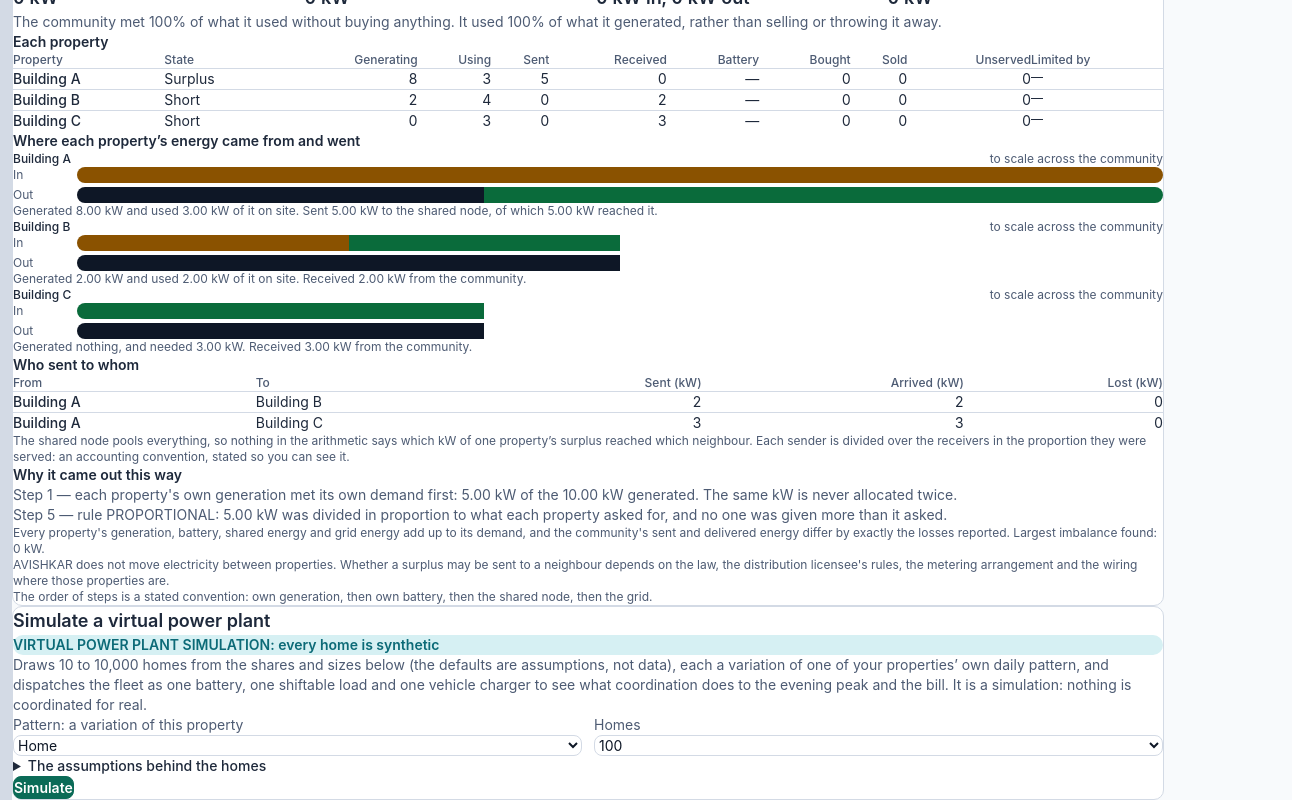
Scenario: CommunityView: the virtual power plant › sends the assumptions that were changed, as numbers, and the fleet size chosen
This screenshot has width=1292, height=800.
(page scrolled)
Select "10,000" in the dropdown labelled "Homes": coordinates (878, 745) left=594, top=735, right=1163, bottom=756
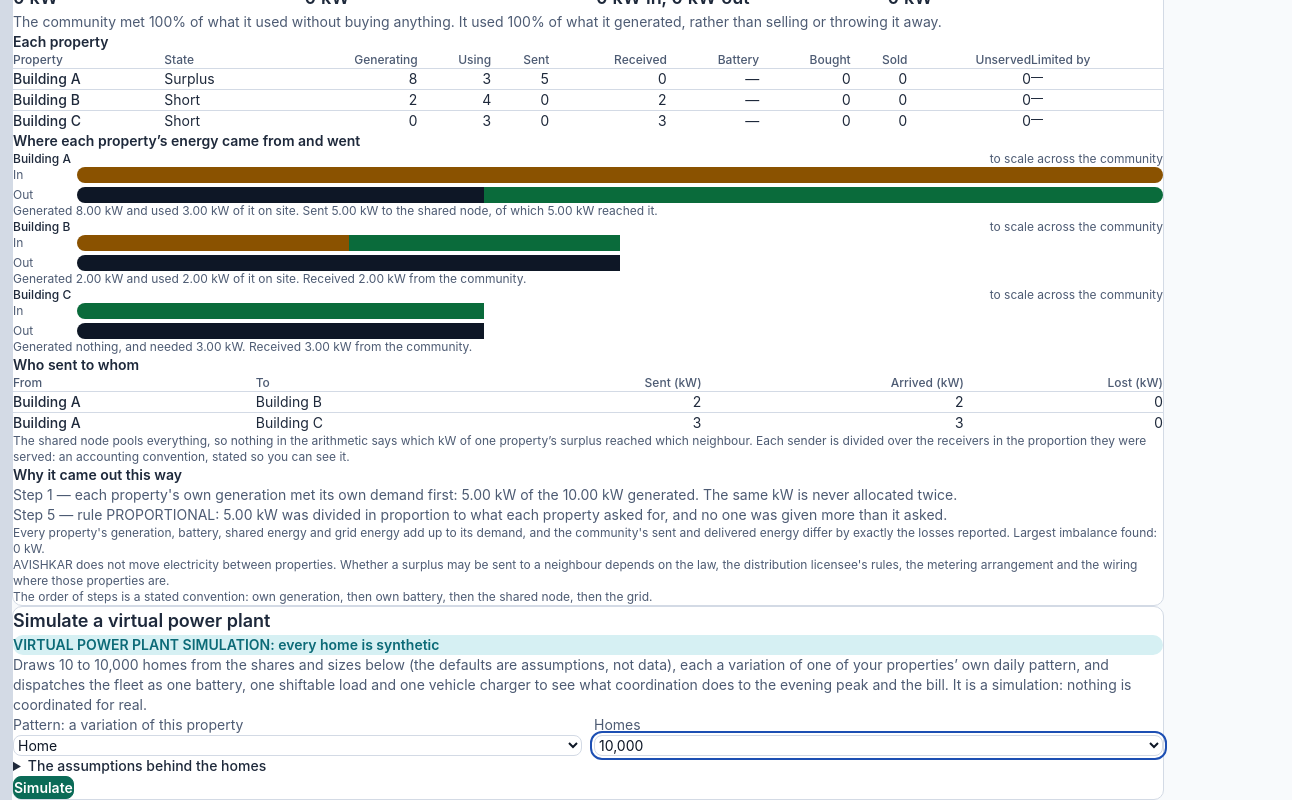
Click the heading "The assumptions behind the homes": coordinates (147, 765) left=28, top=757, right=266, bottom=774
(page scrolled)
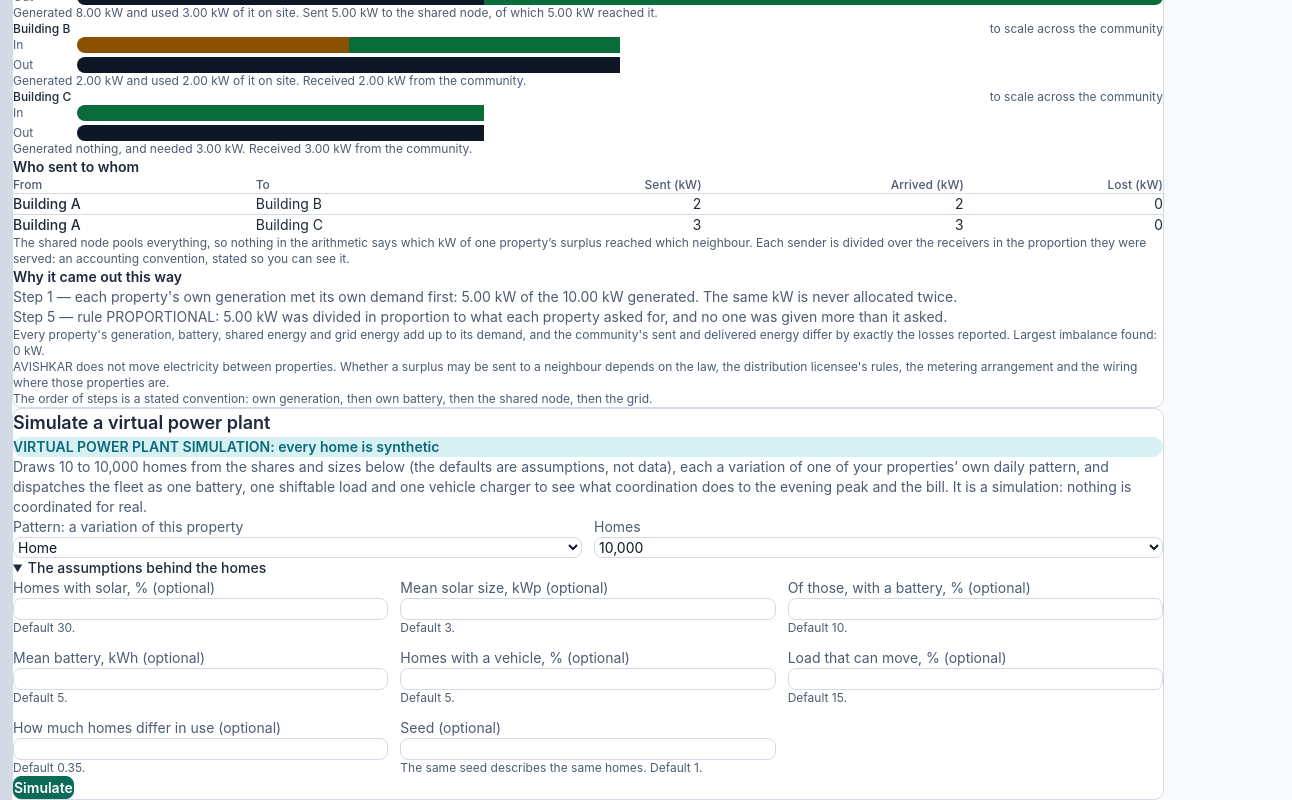
In the field labelled "Homes with solar, % (optional)": coordinates (201, 609) left=13, top=598, right=388, bottom=620, type "60"
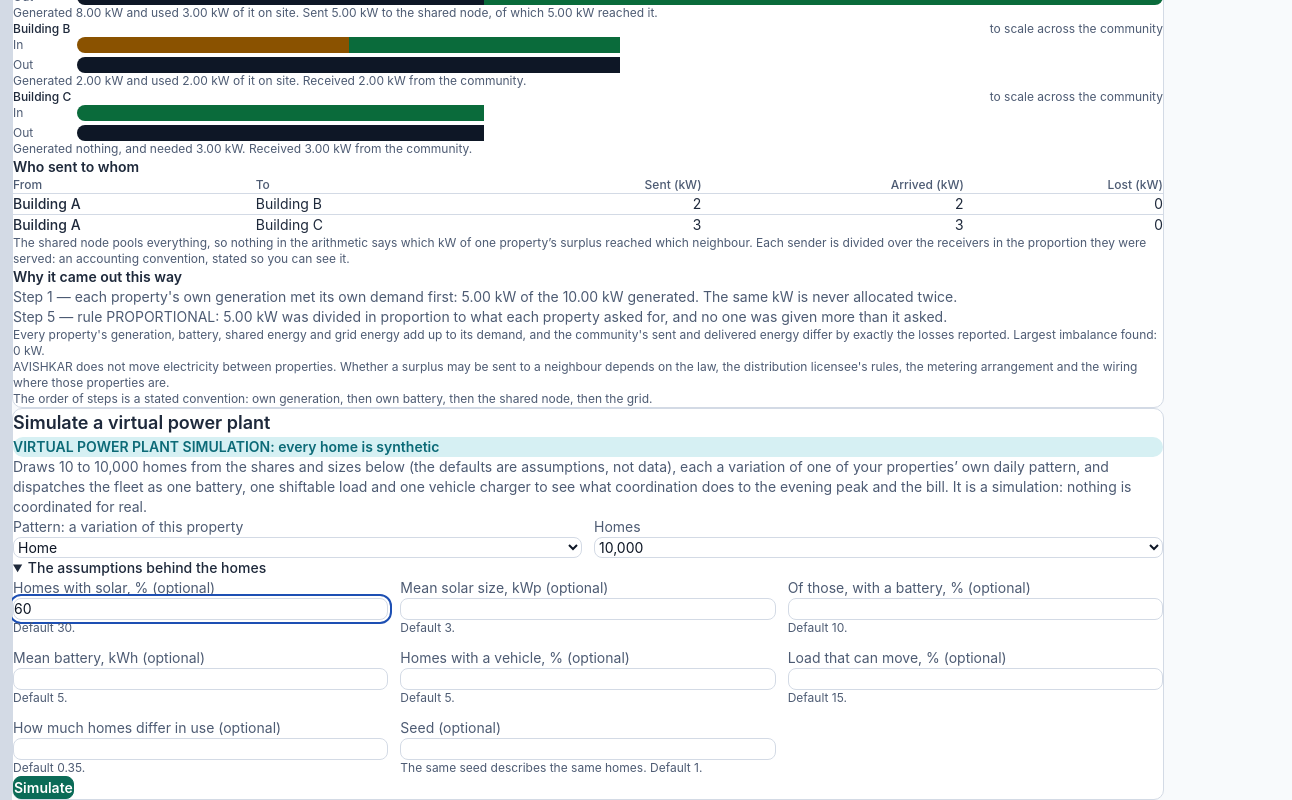
In the field labelled "Seed (optional)": coordinates (588, 749) left=400, top=738, right=776, bottom=760, type "42"
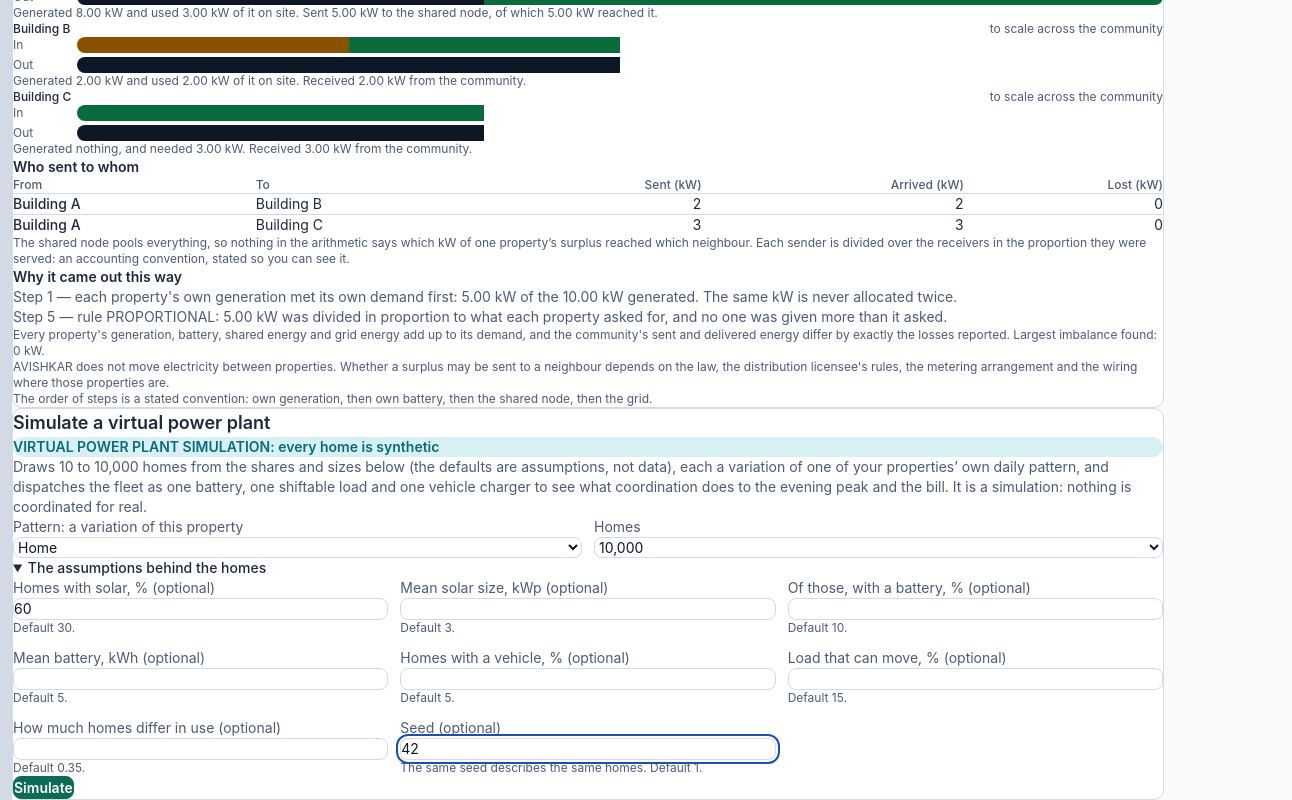
Click the button "Simulate": coordinates (43, 788) left=13, top=776, right=74, bottom=799
(page scrolled)
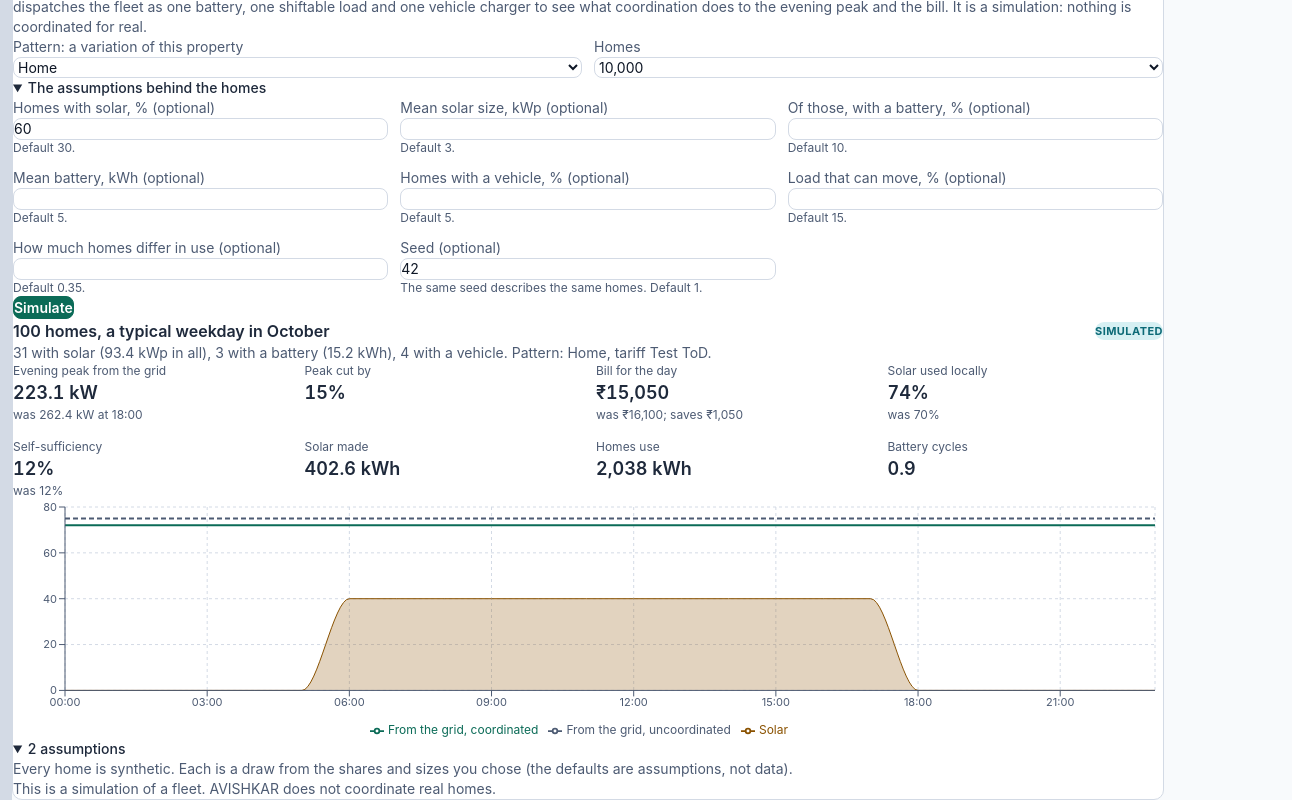
Result: the element named "Simulation result" is shown at left=13, top=319, right=1163, bottom=799
